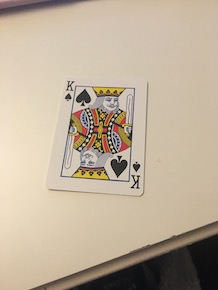KingOfSpades: (38, 70, 154, 204)
